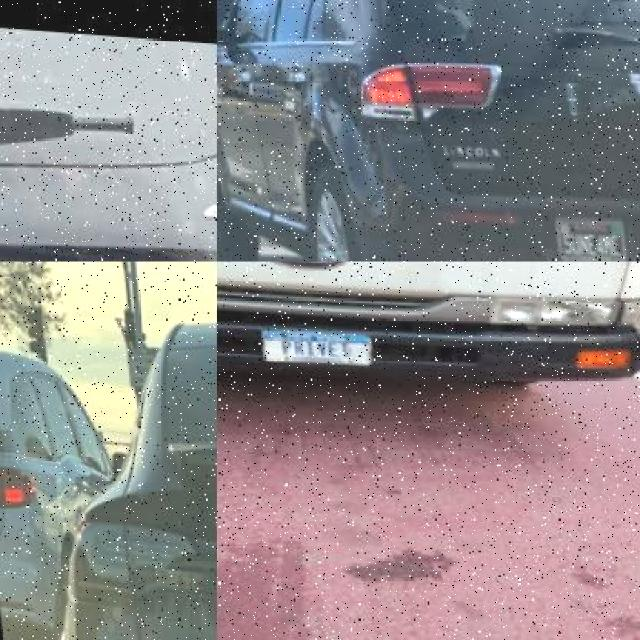licenseplate: (251, 324, 367, 362), (546, 208, 620, 257)
